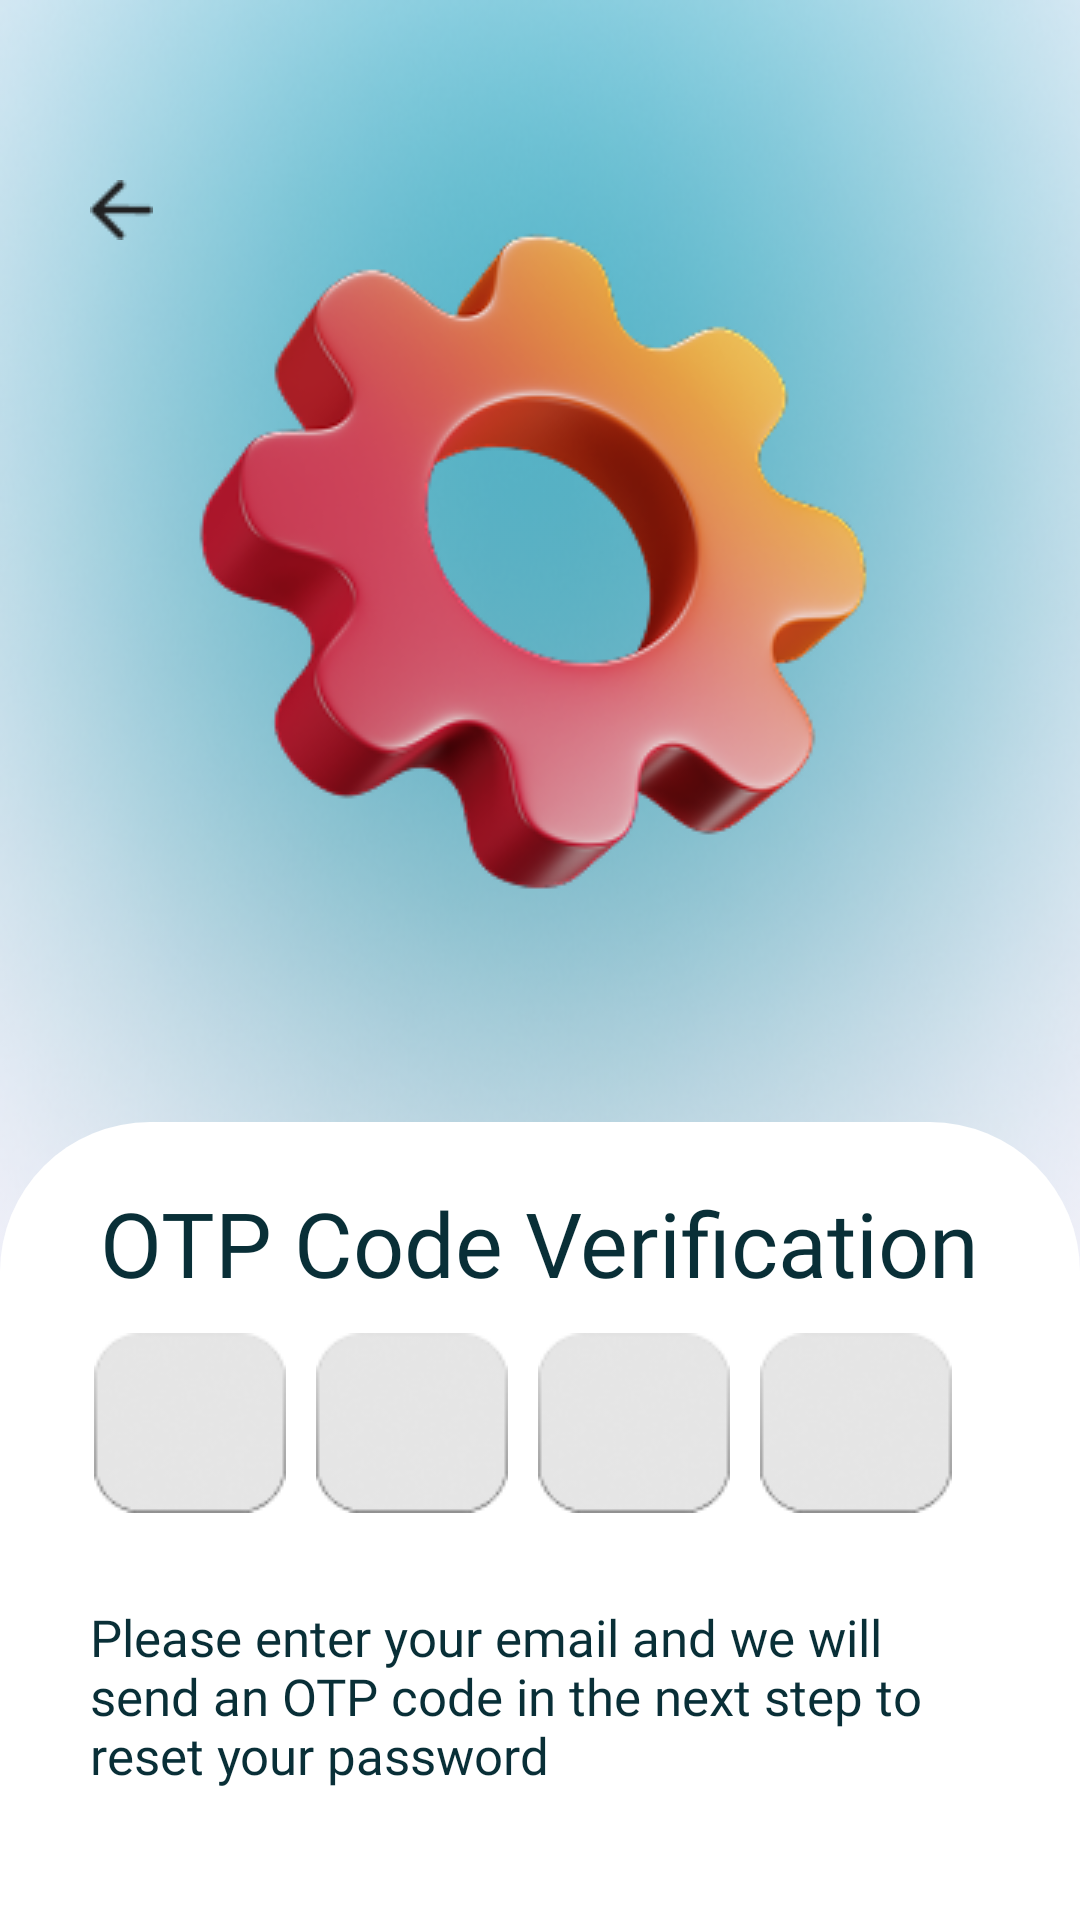

Icons on this 1080x1920 Android screen, each with the point to tap as (x,y):
back: (121,210)
